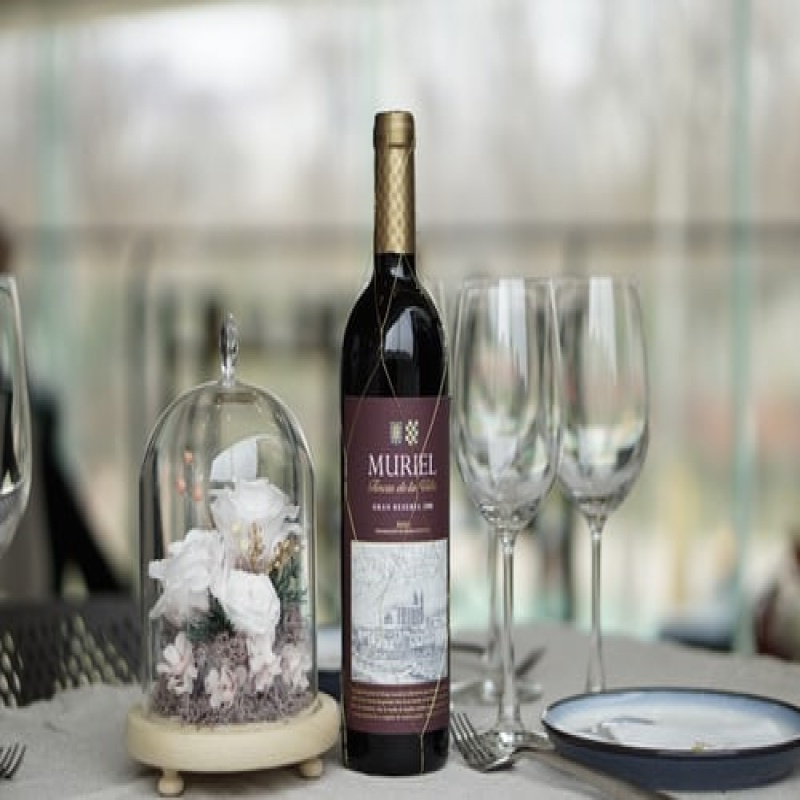wine: (339, 114, 461, 772)
